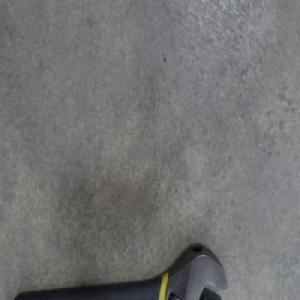AdjustableWrench: (16, 241, 229, 299)
